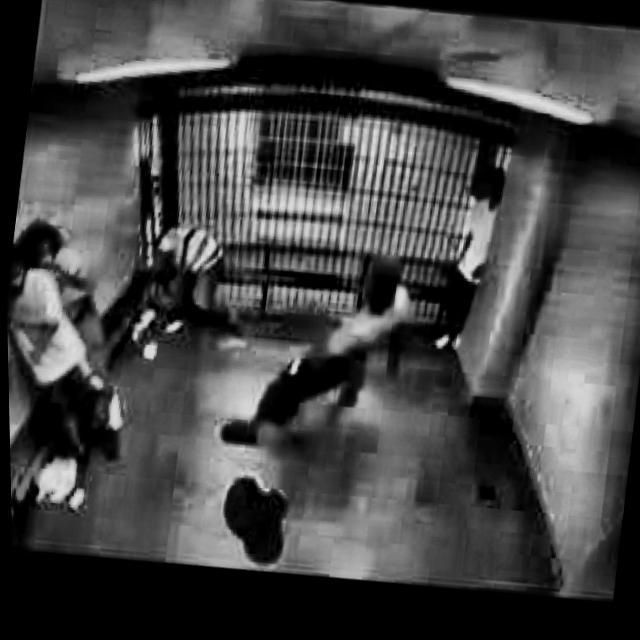Robbery: (244, 252, 435, 521), (0, 206, 138, 492), (412, 109, 526, 388), (140, 193, 249, 354)
